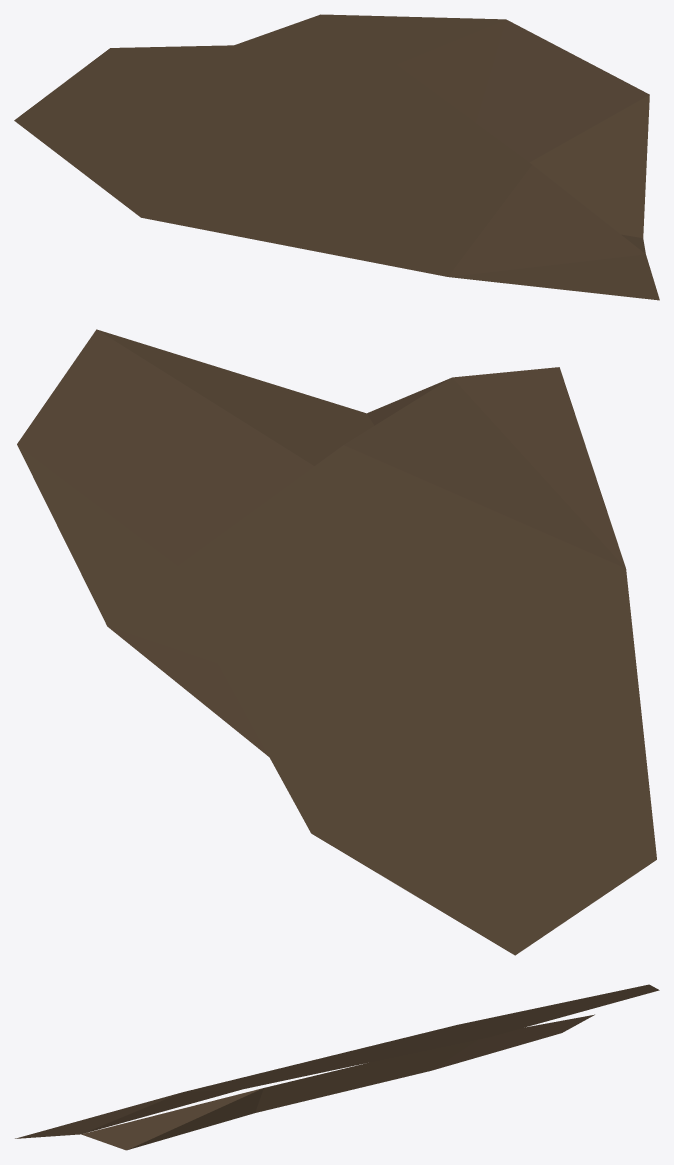
The model's file is ITAT_WING.OBJ.
The picture shows the model from 3 angles, top to bottom: view 1: azimuth 30°, elevation 25°; view 2: azimuth 150°, elevation 25°; view 3: azimuth 270°, elevation 25°; orthographic projection. The views are drawn at different scales.
Visible parts, largest first — view 1: ITAT_WING; view 2: ITAT_WING; view 3: ITAT_WING.
Part boxes in pixels (left/top/right/bottom): ITAT_WING: left=14, top=14, right=659, bottom=300; ITAT_WING: left=17, top=329, right=656, bottom=955; ITAT_WING: left=15, top=984, right=659, bottom=1150.
Size of the model in its own units: 0.4834 by 0.1325 by 0.6655.
